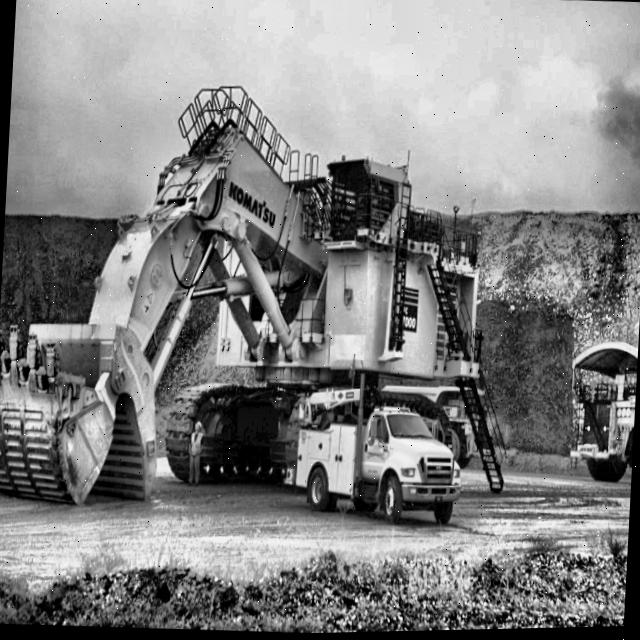dump_truck: (564, 312, 640, 485)
excavator: (0, 19, 548, 553)
light_vehicle: (298, 373, 490, 546)
